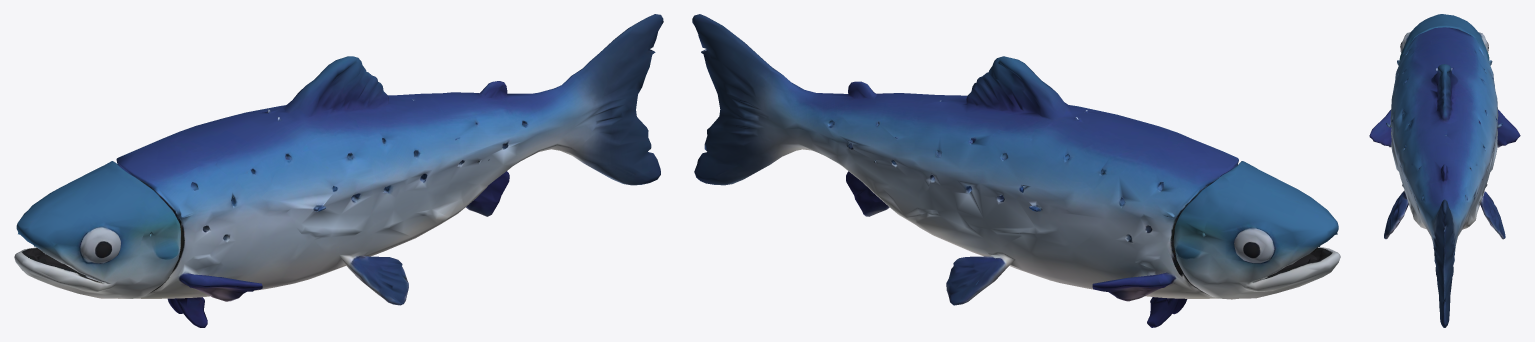
Rendered from fish-losos.glb.
3 views of the same model, side by side, from view 1: azimuth 30°, elevation 25°; view 2: azimuth 150°, elevation 25°; view 3: azimuth 270°, elevation 25° (orthographic). The views are drawn at different scales.
Parts seen in each view (by area): view 1: tripo_node_bd461d72-4810-4a3e-9c3f-372cc544ddf3; view 2: tripo_node_bd461d72-4810-4a3e-9c3f-372cc544ddf3; view 3: tripo_node_bd461d72-4810-4a3e-9c3f-372cc544ddf3.
Part boxes in pixels (x1=…): tripo_node_bd461d72-4810-4a3e-9c3f-372cc544ddf3: x1=14, y1=14, x2=663, y2=327; tripo_node_bd461d72-4810-4a3e-9c3f-372cc544ddf3: x1=692, y1=14, x2=1340, y2=327; tripo_node_bd461d72-4810-4a3e-9c3f-372cc544ddf3: x1=1369, y1=14, x2=1520, y2=327.
Size of the model in its own units: 0.9998 by 0.3354 by 0.2706.
1 material, 1 textured.
